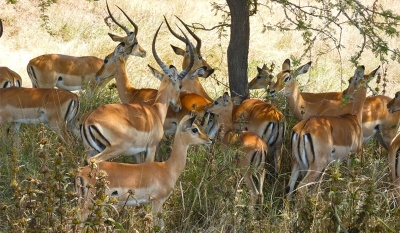impala: (68, 110, 215, 233), (80, 19, 196, 168), (266, 57, 400, 183), (284, 62, 382, 221), (26, 1, 150, 98), (93, 40, 210, 138), (205, 89, 271, 215), (1, 86, 81, 152)
